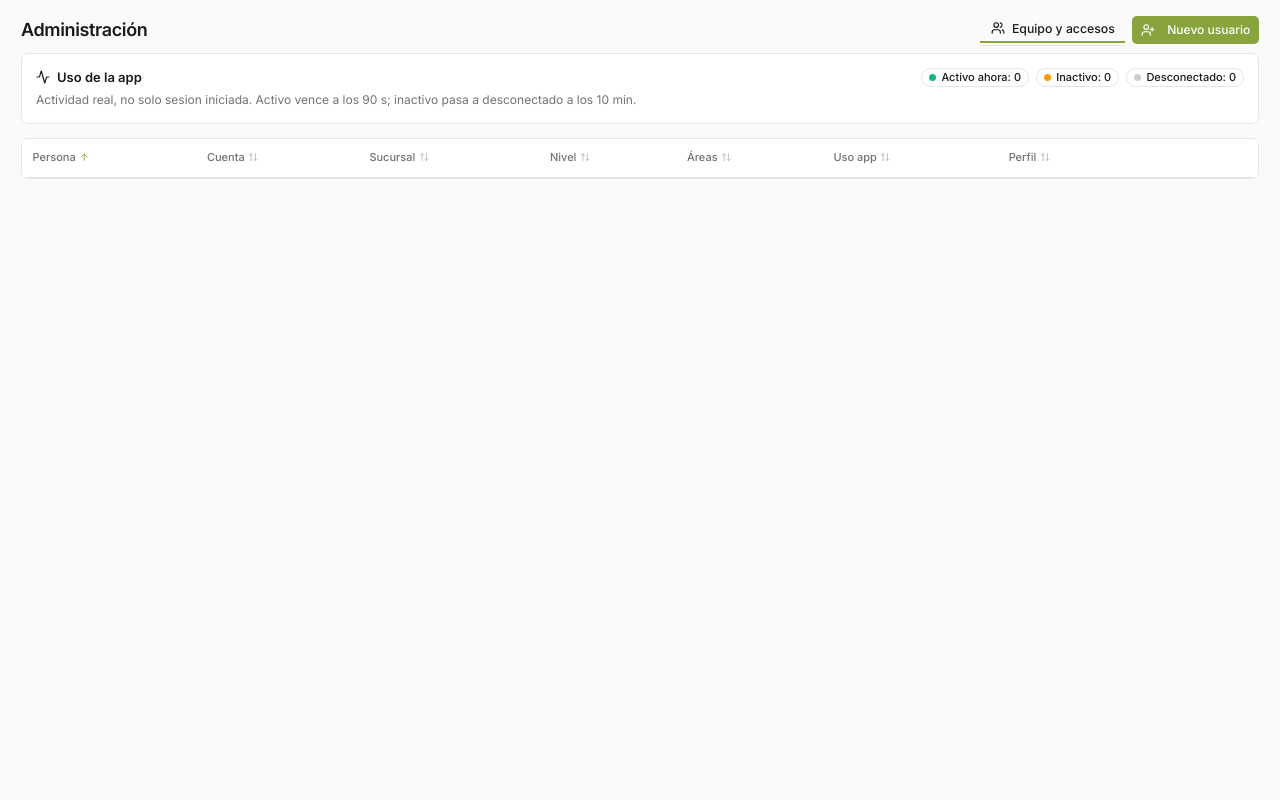
it: Administración: alta de operativos sin acceso › abre por defecto sin correo ni contraseña y con nivel Operativo
Click the button "Nuevo usuario" at (1196, 30), box x1=1132 y1=16 x2=1259 y2=44
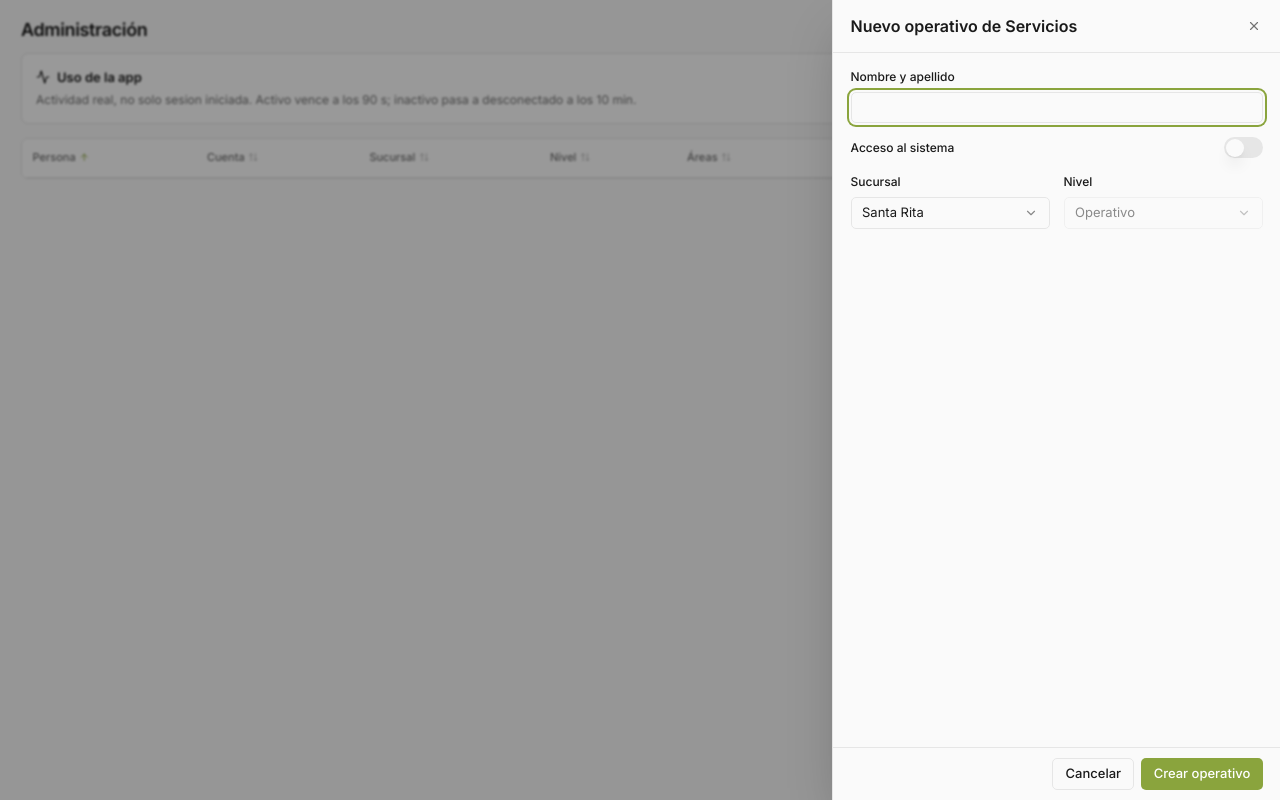
Check: the heading "Nuevo operativo de Servicios" is shown, box x1=850 y1=16 x2=1077 y2=36
Check: the switch named "Acceso al sistema" is not checked, box x1=1224 y1=137 x2=1262 y2=158
Check: the dropdown named "Sucursal" reads "Santa Rita", box x1=850 y1=197 x2=1050 y2=228
